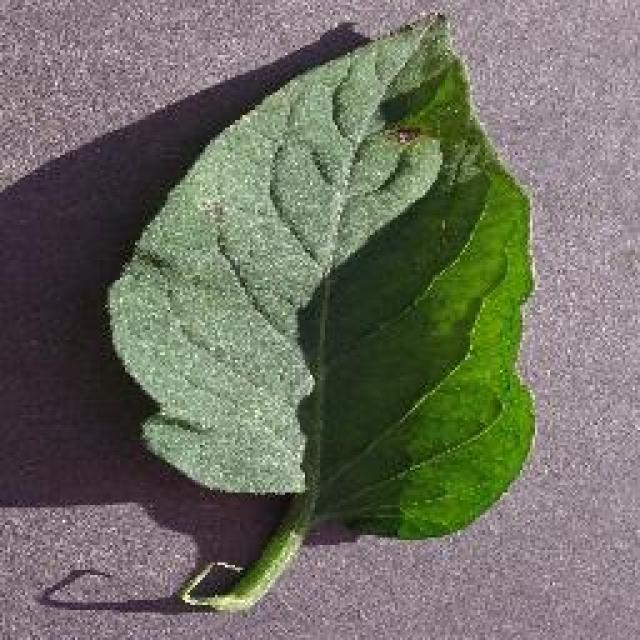Tomato___Target_Spot: (108, 12, 533, 602)
